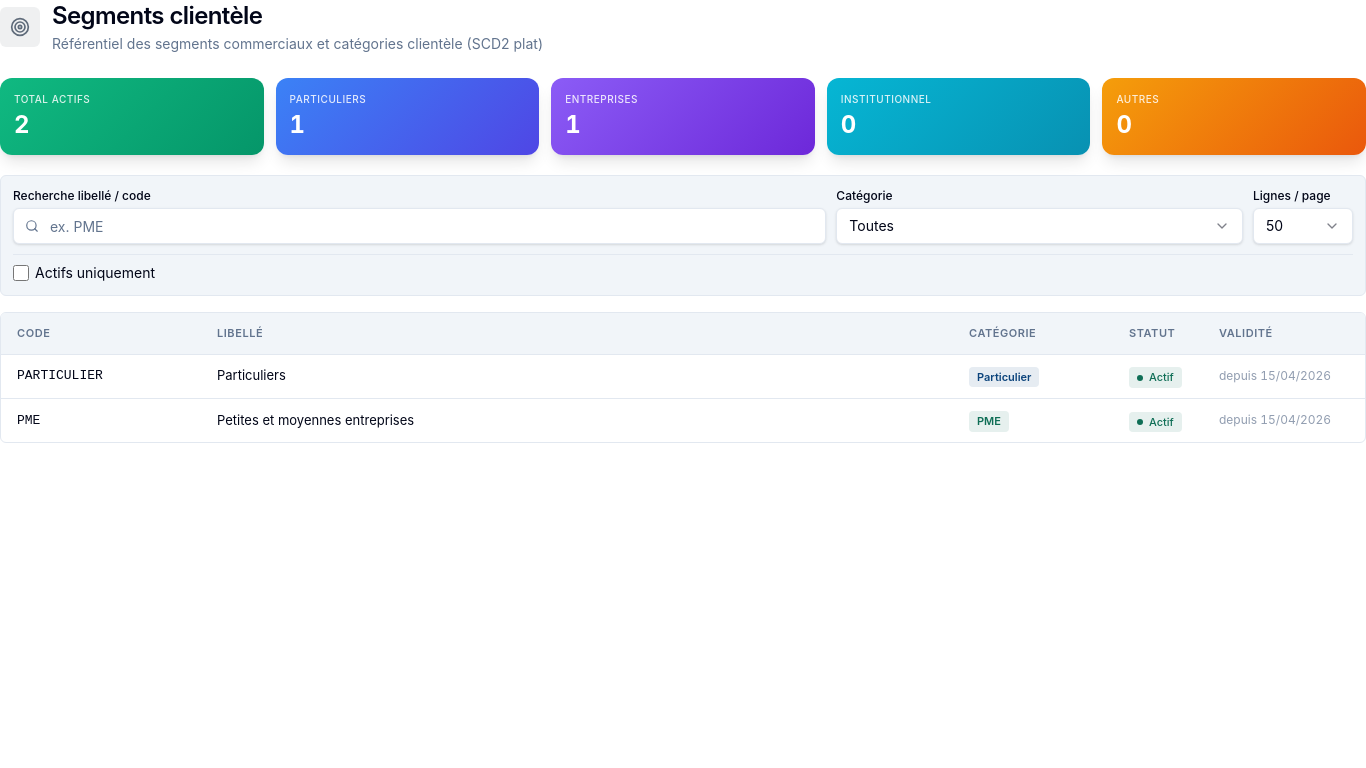
SegmentsPage › LECTEUR : drawer SANS boutons Modifier/Désactiver
What coordinates should you click on to do the following:
click the text "PARTICULIER"
I would click on:
 (60, 376)
Its box is [17,368,103,383].
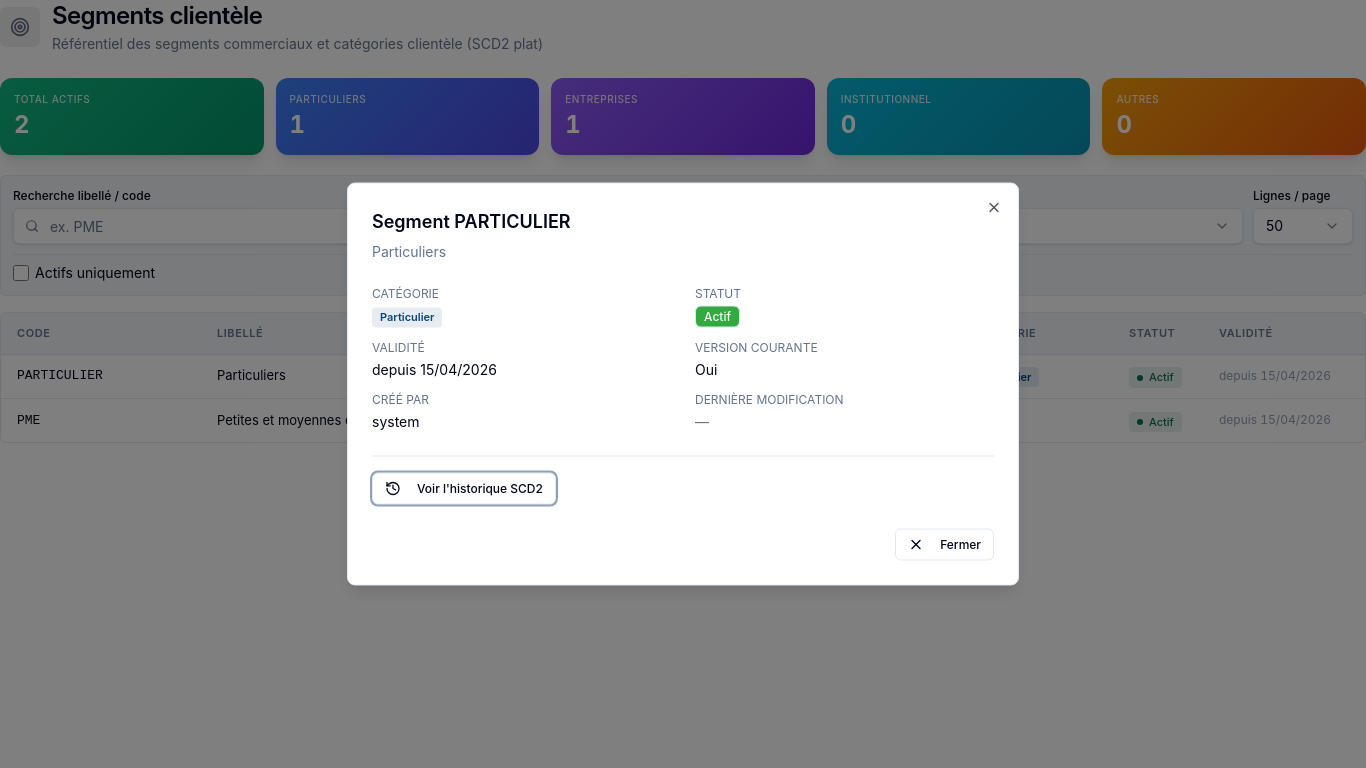
Expected: the heading "Segment PARTICULIER" is shown, [372,210,570,232]
